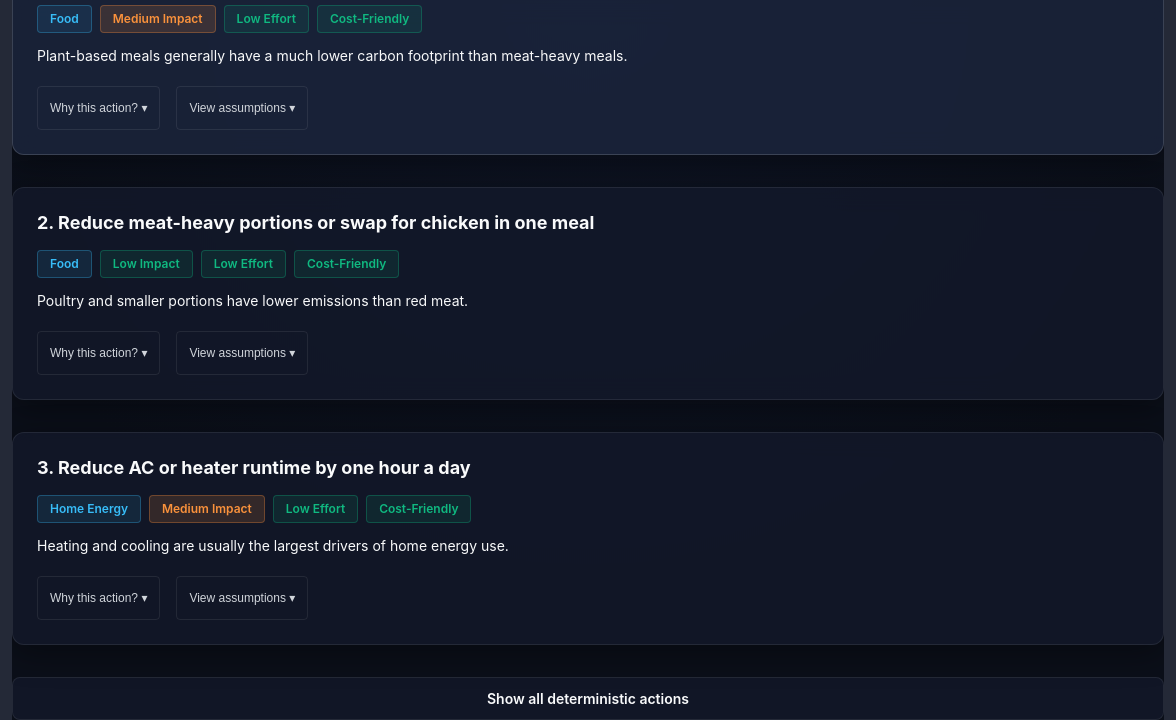
it: RecommendationPanel Component › renders recommendations when profile exists and toggles show all
This screenshot has width=1176, height=720.
(page scrolled)
# Click toggle button to reveal more
Click the button "Show all deterministic actions".
click(588, 698)  # box [12, 677, 1164, 719]
(page scrolled)
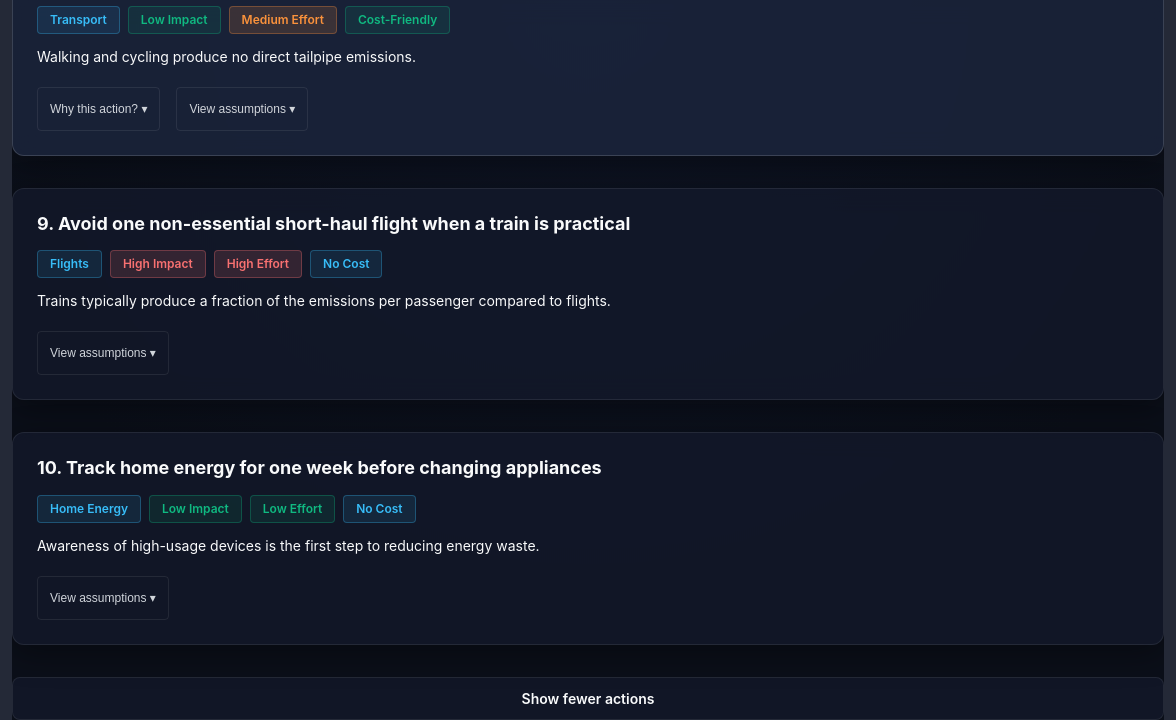
expect the button "Show fewer actions" is shown: met, box [12, 677, 1164, 719]
